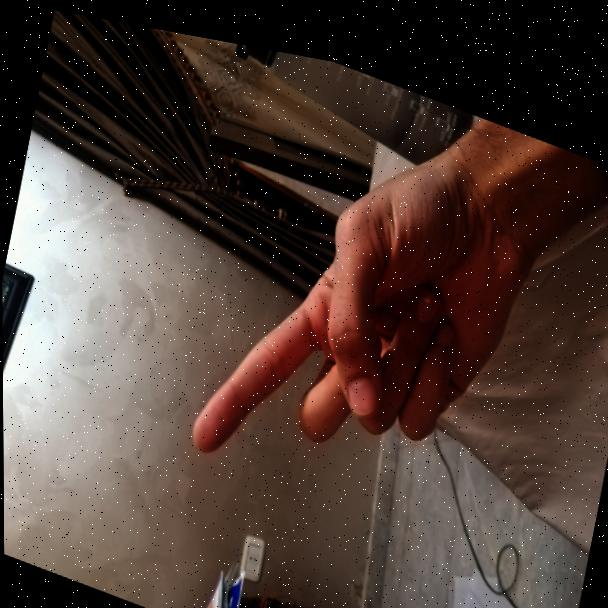one: (180, 81, 555, 564)
